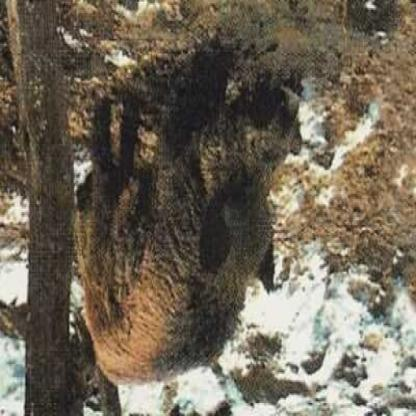boar: (24, 60, 332, 398)
